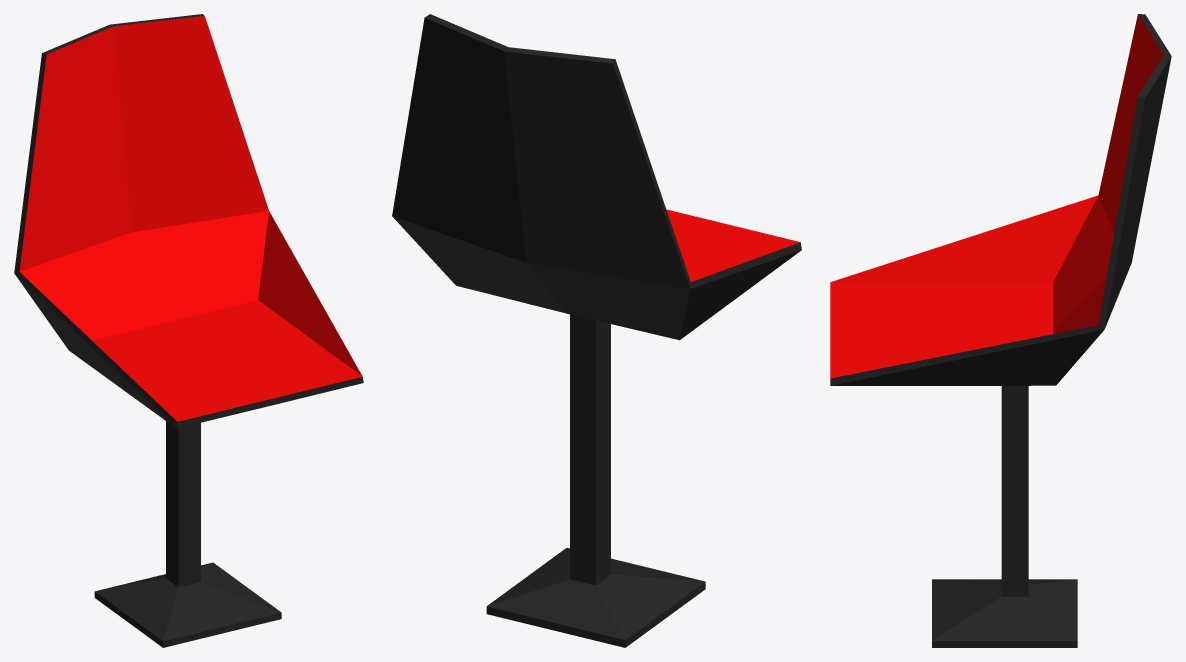
File: Chair_2_Red.glb
3 renders of one model, left to right at view 1: azimuth 30°, elevation 25°; view 2: azimuth 150°, elevation 25°; view 3: azimuth 270°, elevation 25°, orthographic. The views are drawn at different scales.
Parts seen in each view (by area): view 1: Chair 2; view 2: Chair 2; view 3: Chair 2.
Boxes of the visible parts, x1,y1,x2,y2 form: Chair 2: (14,14,363,647); Chair 2: (392,14,801,647); Chair 2: (830,14,1171,647).
Size of what is drawn, in the model's own units: 0.6159 by 1.22 by 0.672.
2 materials, 2 textured.
